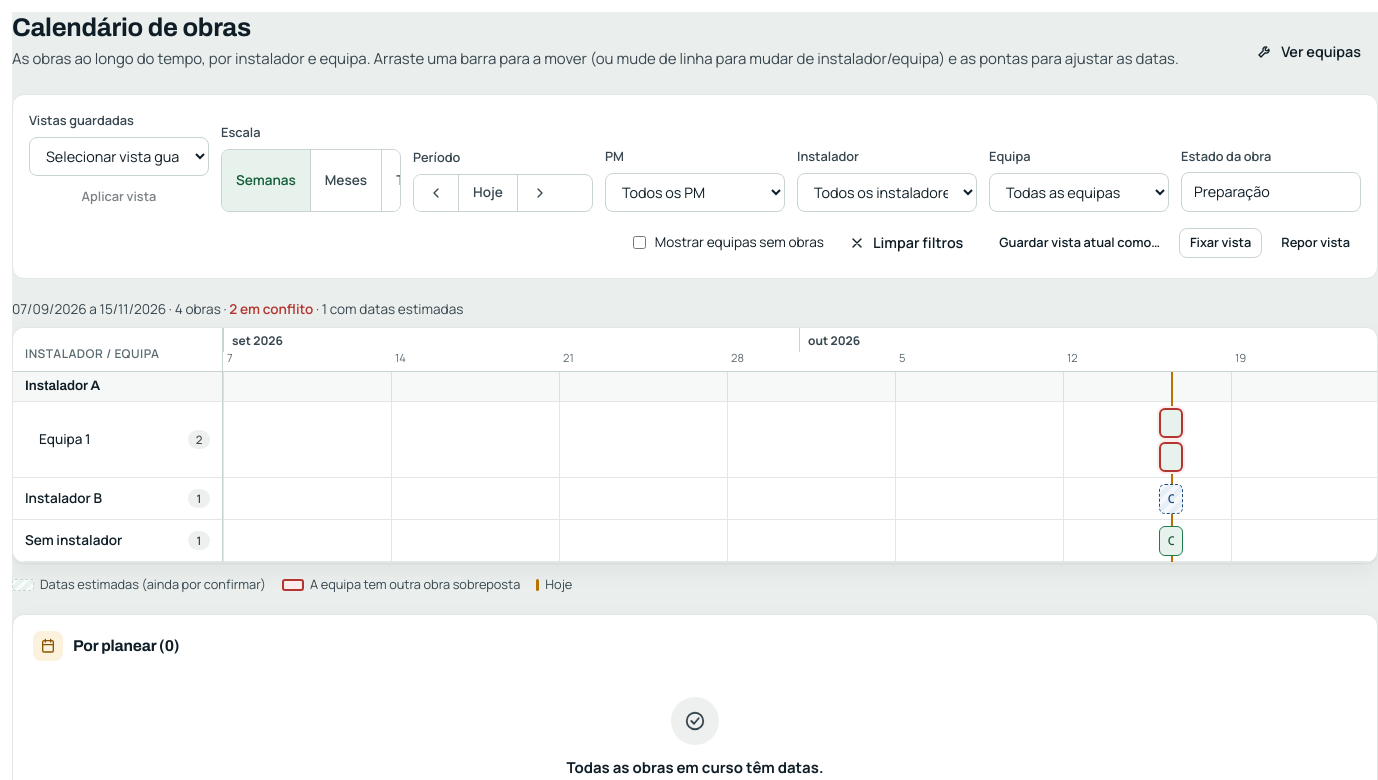
Test: Works (calendário de obras) › dá precedência aos parâmetros partilhados sobre a vista guardada
Click the button "Preparação". click: (1271, 192)
box: top-left (1181, 172), bottom-right (1361, 212)
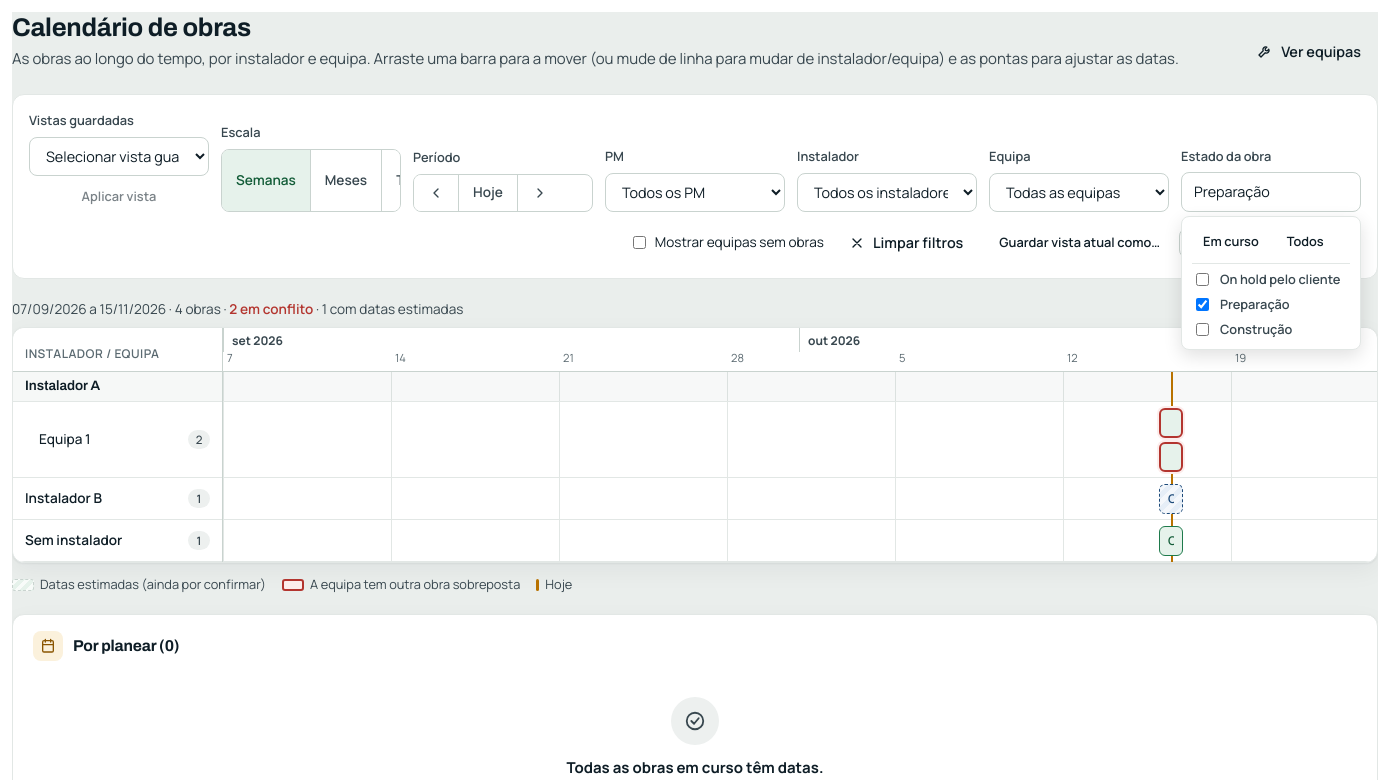
Expected: the checkbox labelled "Mostrar equipas sem obras" is not checked, top-left (633, 236), bottom-right (646, 249)
Expected: the checkbox labelled "Construção" is not checked, top-left (1196, 323), bottom-right (1209, 336)
Expected: the checkbox labelled "Preparação" is checked, top-left (1196, 298), bottom-right (1209, 311)
